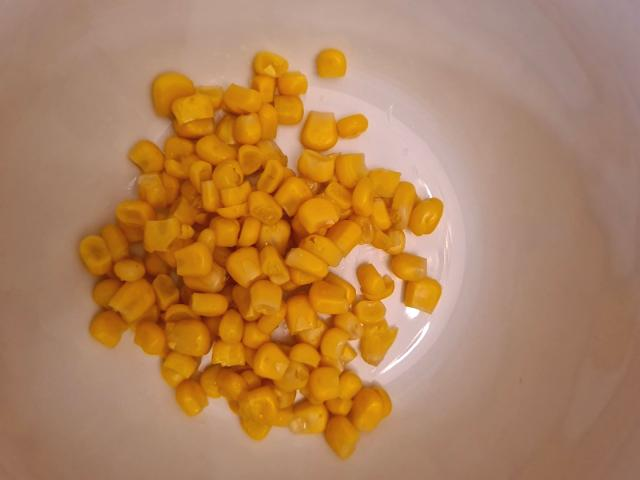kichen waste: (80, 49, 443, 460)
